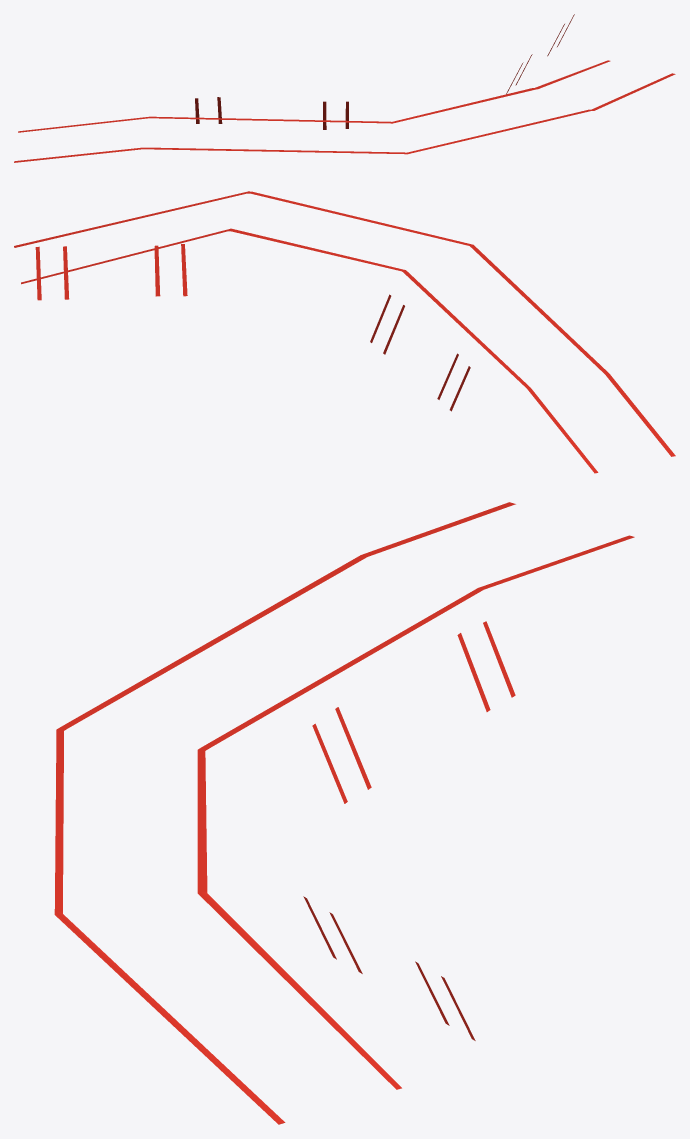
File: 完整环形高地灯带.fbx
The picture shows the model from 3 angles, top to bottom: view 1: azimuth 30°, elevation 25°; view 2: azimuth 150°, elevation 25°; view 3: azimuth 270°, elevation 25°; orthographic projection. The views are drawn at different scales.
Parts seen in each view (by area): view 1: 灯带; view 2: 灯带; view 3: 灯带.
Part boxes in pixels (x1,y1,x2,y2): 灯带: [14, 14, 675, 162]; 灯带: [14, 191, 675, 473]; 灯带: [54, 502, 634, 1124].
Bounding box in the file's own units: 599 × 42.26 × 249.
